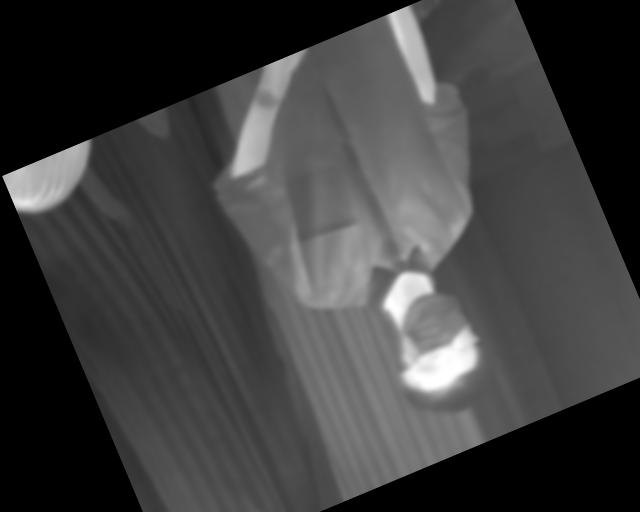face: (370, 281, 505, 431)
